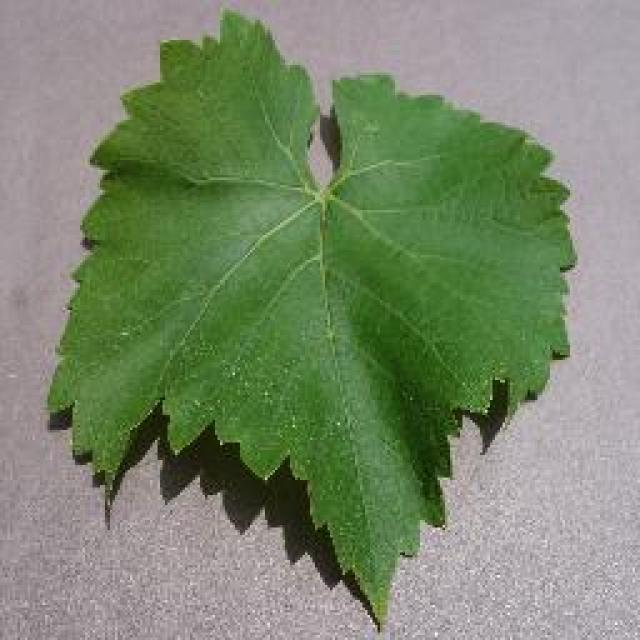Grape___healthy: (48, 10, 572, 618)
